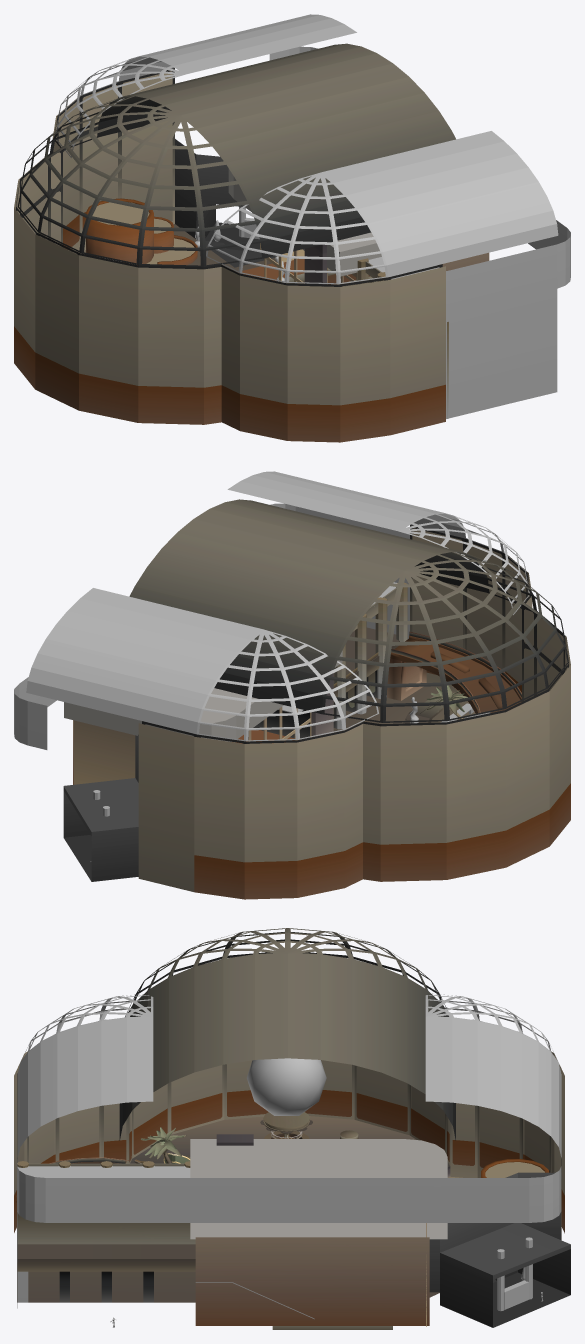
Rendered from Blockout_v4.fbx.
The picture shows the model from 3 angles, top to bottom: view 1: azimuth 30°, elevation 25°; view 2: azimuth 150°, elevation 25°; view 3: azimuth 270°, elevation 25°; orthographic projection.
Parts seen in each view (by area): view 1: Cylinder.021, Sphere, Sphere.002, Cylinder.026, Sphere.001, Cylinder.013, Cylinder.004, Cylinder.002, Plane.002, Plane.006, Cylinder.001, Cylinder.024 (+4 smaller); view 2: Cylinder.021, Sphere, Sphere.001, Sphere.002, Cylinder.013, Cylinder.024, Plane.001, Plane.002, Cylinder.012, Cylinder.004, Cylinder.026, Cylinder.006 (+3 smaller); view 3: Sphere, Cylinder.026, Cylinder.021, Plane.006, Plane.002, Sphere.001, Sphere.002, Cylinder.024, Cylinder.013, Cylinder.006, Cylinder.004, Icosphere (+5 smaller).
Part boxes in pixels (box(x1,y1,x2,y2)): Cylinder.021: box(14, 71, 445, 442); Sphere: box(18, 43, 455, 267); Sphere.002: box(206, 131, 558, 284); Cylinder.026: box(269, 46, 570, 418); Sphere.001: box(56, 14, 356, 157); Cylinder.013: box(175, 139, 276, 267); Cylinder.004: box(16, 68, 442, 286); Cylinder.002: box(86, 198, 153, 263); Plane.002: box(228, 169, 381, 276); Plane.006: box(242, 252, 489, 286); Cylinder.001: box(146, 235, 197, 265); Cylinder.024: box(357, 257, 448, 418); Cylinder.021: box(138, 528, 570, 899); Sphere: box(129, 499, 568, 722); Sphere.001: box(26, 588, 378, 741); Sphere.002: box(227, 471, 529, 614); Cylinder.013: box(63, 734, 138, 881); Cylinder.024: box(253, 582, 407, 739); Plane.001: box(74, 707, 311, 784); Plane.002: box(64, 650, 342, 741); Cylinder.012: box(390, 631, 521, 713); Cylinder.004: box(142, 525, 568, 743); Cylinder.026: box(14, 503, 409, 749); Cylinder.006: box(333, 686, 475, 732); Sphere: box(119, 928, 455, 1140); Cylinder.026: box(17, 1159, 561, 1308); Cylinder.021: box(14, 1051, 564, 1233); Plane.006: box(195, 1237, 429, 1329); Plane.002: box(190, 1139, 447, 1239); Sphere.001: box(425, 993, 561, 1157); Sphere.002: box(17, 994, 153, 1157); Cylinder.024: box(17, 1161, 195, 1302); Cylinder.013: box(429, 1172, 570, 1327); Cylinder.006: box(17, 1176, 561, 1302); Cylinder.004: box(17, 1064, 561, 1231); Icosphere: box(247, 1058, 326, 1115).
Size of the model in its own units: 16182 by 9572 by 18643.
